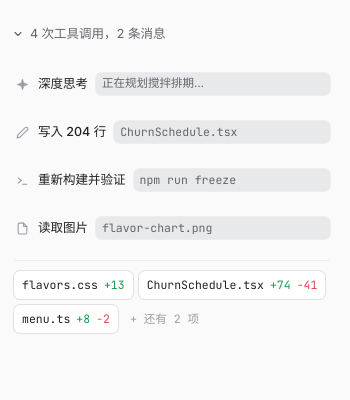
ToolChips › opens a tool detail through its disclosure control
The image size is (350, 400).
Click the button "写入 204 行 ChurnSchedule.tsx" at (172, 132), box [11,110,333,154]
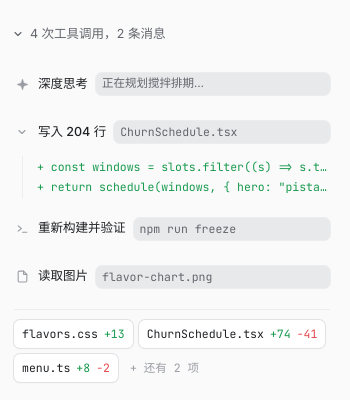
Expected: the button "写入 204 行 ChurnSchedule.tsx" is expanded, [11,110,333,154]
Expected: the text "+ const windows = slots.filter((s) => s.temp <= -12)" is shown, [37,158,330,176]
